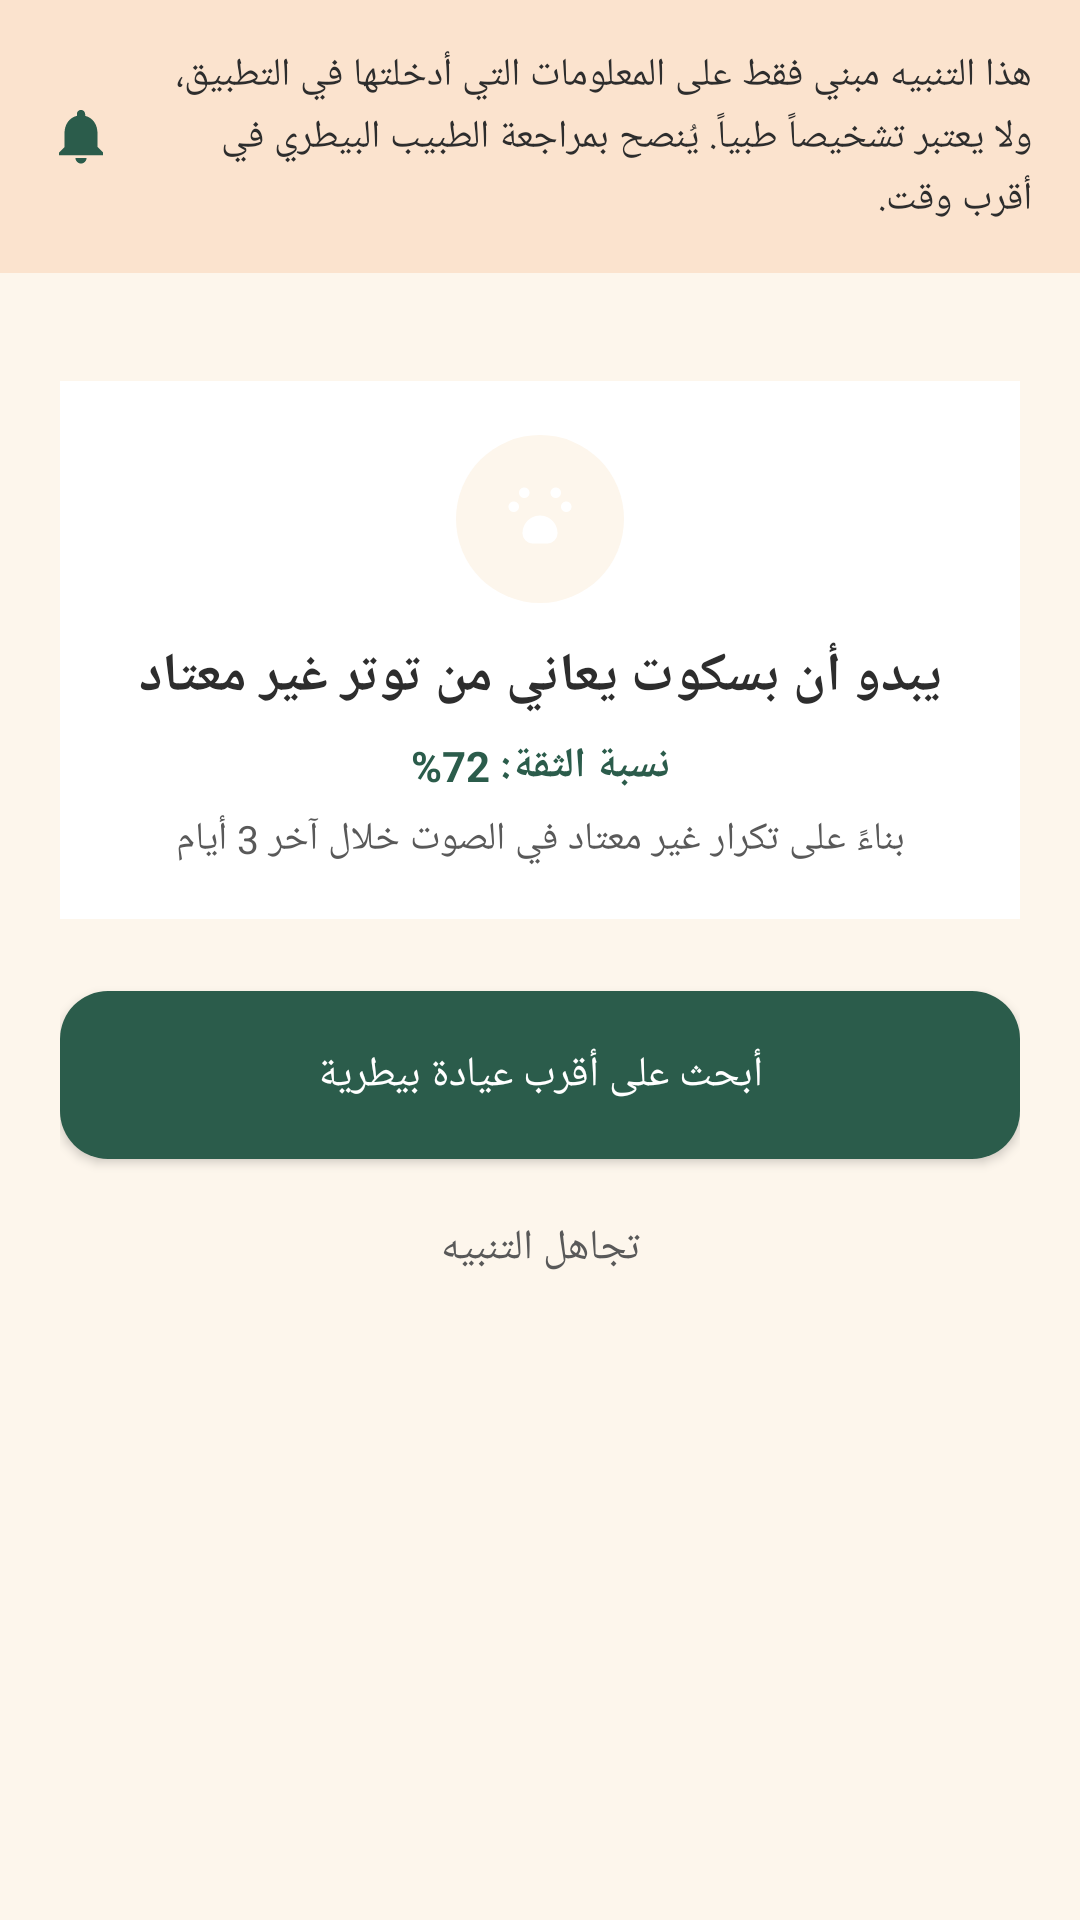

Screen size 1080 × 1920. Icon name, then its box in pixels as (x1, y1, x2, y2):
أيقونة التنبيه: (59, 110, 103, 164)
